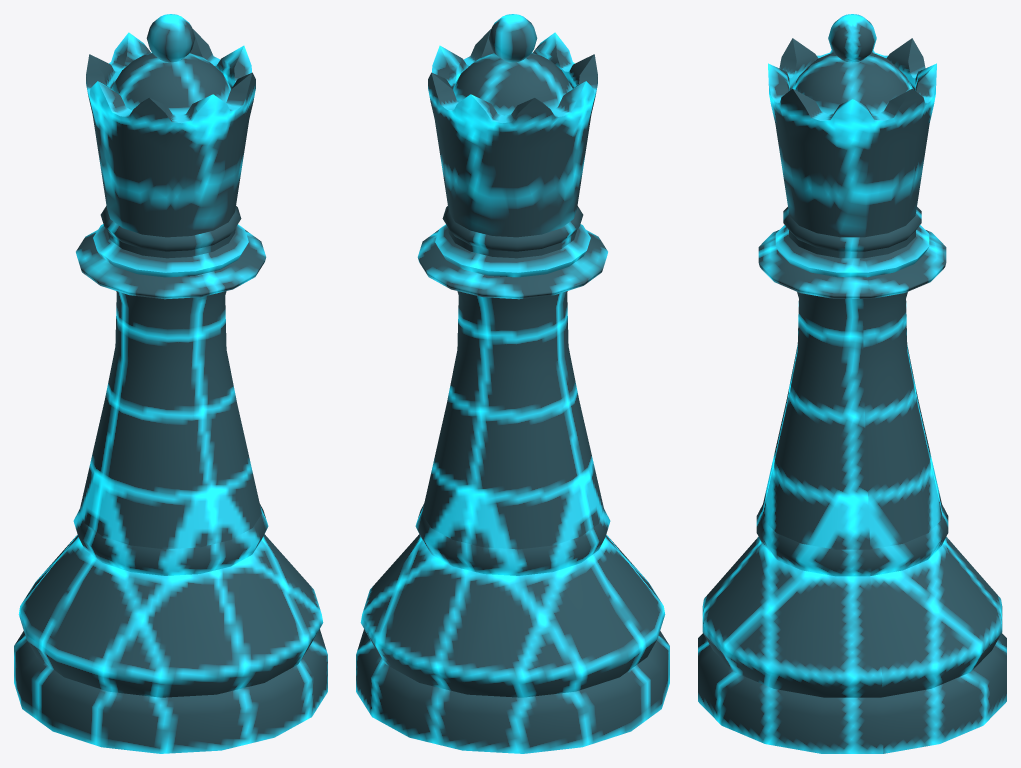
Rendered from item-4-12.glb.
3 renders of one model, left to right at view 1: azimuth 30°, elevation 25°; view 2: azimuth 150°, elevation 25°; view 3: azimuth 270°, elevation 25°, orthographic.
Parts seen in each view (by area): view 1: BlackQueen; view 2: BlackQueen; view 3: BlackQueen.
Boxes of the visible parts, x1=… form: BlackQueen: x1=14, y1=14, x2=327, y2=753; BlackQueen: x1=356, y1=14, x2=669, y2=753; BlackQueen: x1=698, y1=14, x2=1006, y2=753.
Size of the model in its own units: 0.0968 by 0.2326 by 0.0968.
